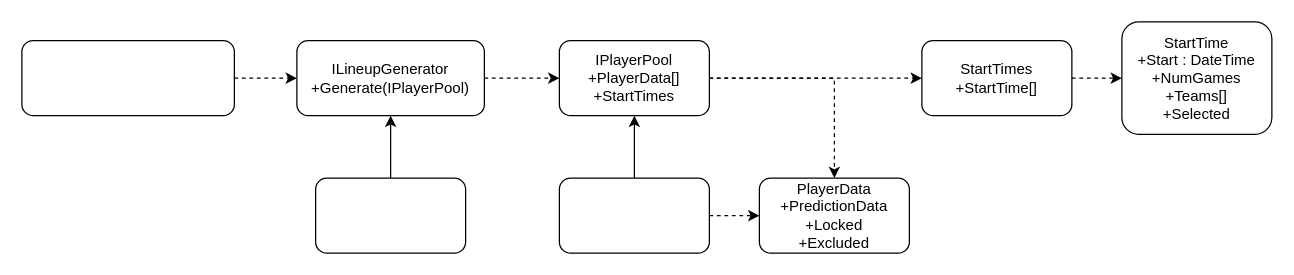
Some shapes in this 1294 by 275 pixel diagram are drawn without their labels. The centre of each missing label's shape, as x and y in pixels:
LineupBuilder +Create() : ILineupGenerator: (127,77)
PlayerPool +Create(Odds, Prediction): (633,215)
RiotGenV0: (390,215)
